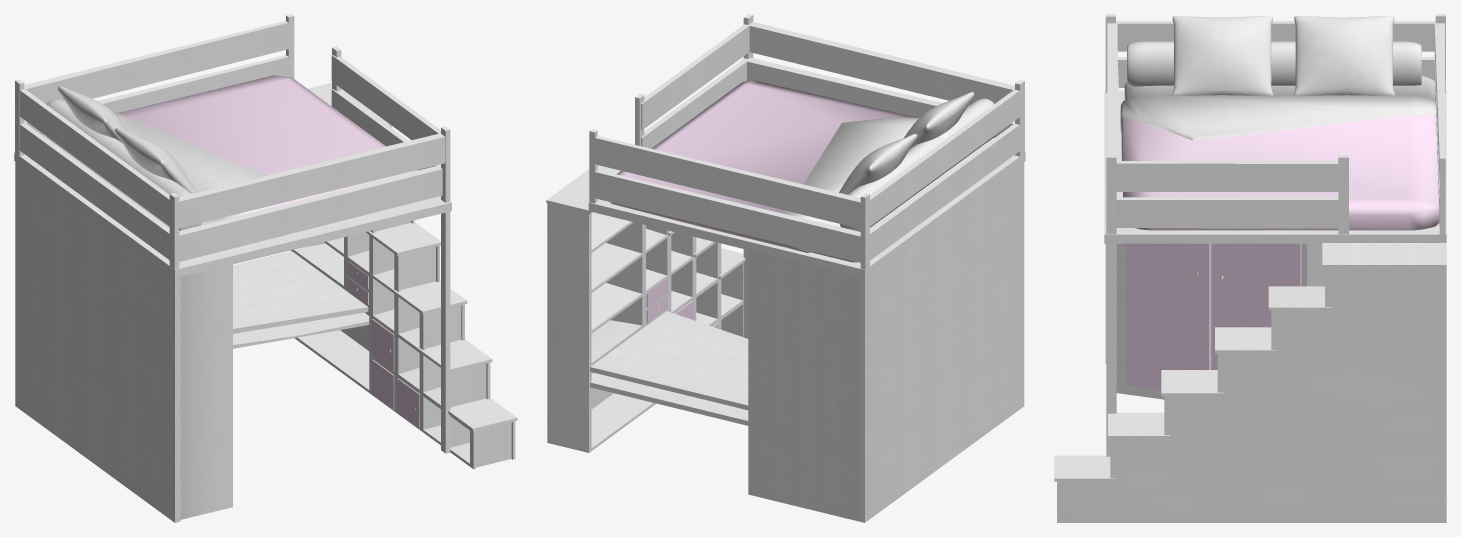
Rendered from sh-contrib-lit-mezzanine2.glb.
3 views of the same model, side by side, from view 1: azimuth 30°, elevation 25°; view 2: azimuth 150°, elevation 25°; view 3: azimuth 270°, elevation 25° (orthographic). The views are drawn at different scales.
Visible parts, largest first — view 1: 1_1, 4_4, 15_15; view 2: 1_1, 4_4, 15_15; view 3: 1_1, 4_4, 15_15.
Boxes of the visible parts, x1,y1,x2,y2 form: 1_1: [14, 14, 517, 522]; 4_4: [117, 75, 419, 428]; 15_15: [40, 86, 266, 230]; 1_1: [546, 14, 1025, 522]; 4_4: [609, 79, 917, 328]; 15_15: [781, 92, 994, 262]; 1_1: [1054, 14, 1446, 522]; 4_4: [1121, 115, 1439, 389]; 15_15: [1120, 15, 1439, 210].
Size of the model in its own units: 1 by 1 by 1.
Materials: 3 (2 with a texture image).
